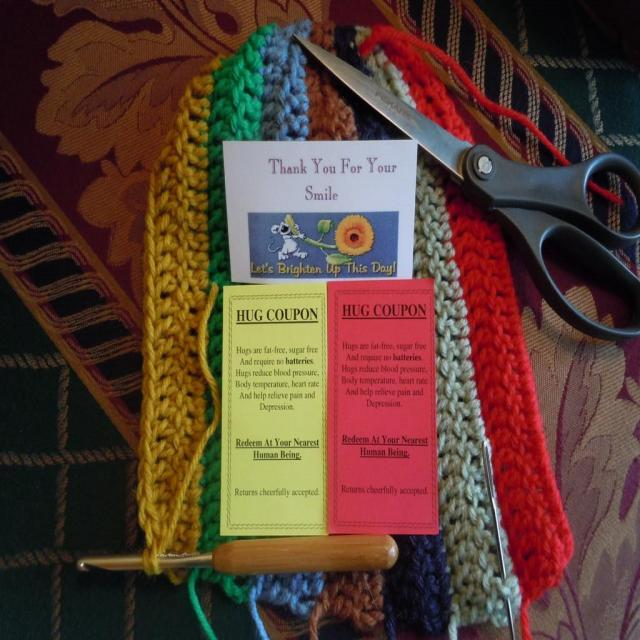scissor: (294, 34, 640, 330)
